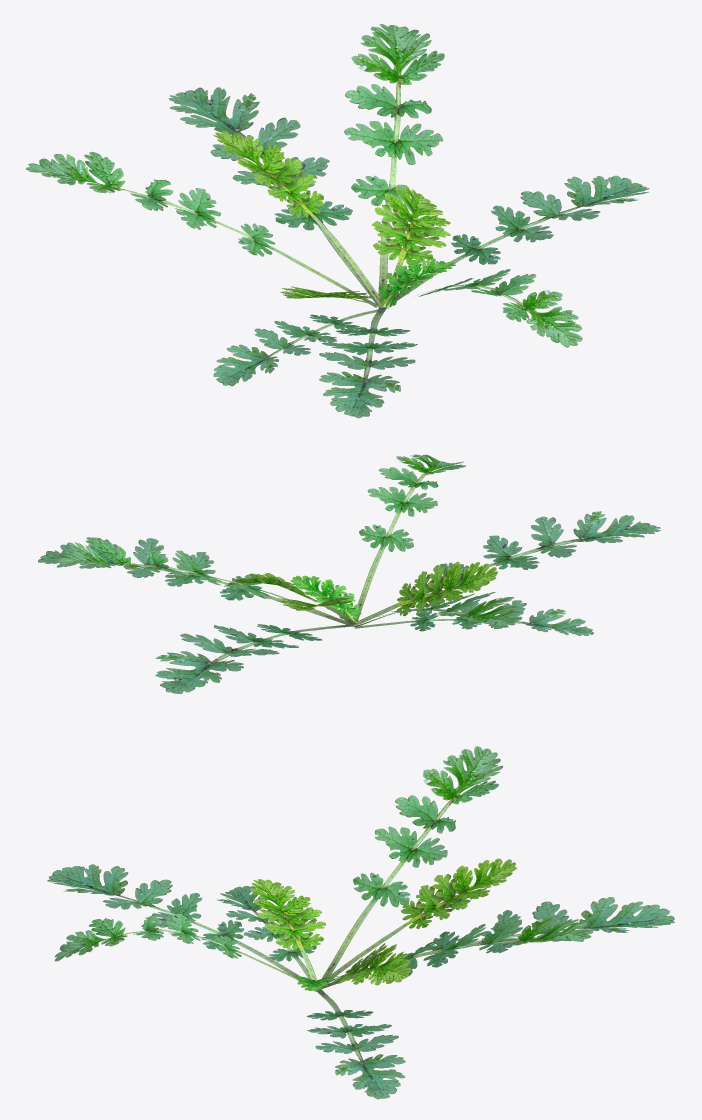
File: plant 3.fbx
3 renders of one model, top to bottom at view 1: azimuth 30°, elevation 25°; view 2: azimuth 150°, elevation 25°; view 3: azimuth 270°, elevation 25°, orthographic. The views are drawn at different scales.
Parts seen in each view (by area): view 1: plant_3; view 2: plant_3; view 3: plant_3.
Boxes of the visible parts, x1=… form: plant_3: x1=26, y1=24, x2=649, y2=418; plant_3: x1=38, y1=454, x2=660, y2=693; plant_3: x1=47, y1=746, x2=674, y2=1099.
Size of the model in its own units: 739 by 174 by 783.
